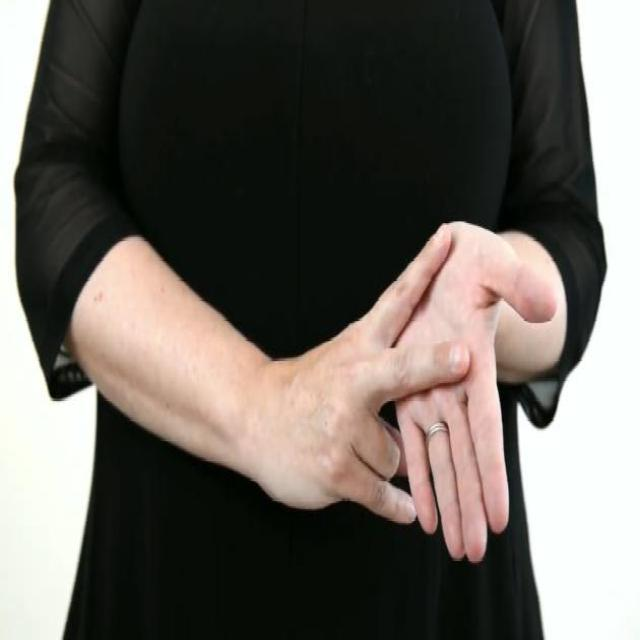V: (299, 220, 561, 574)
